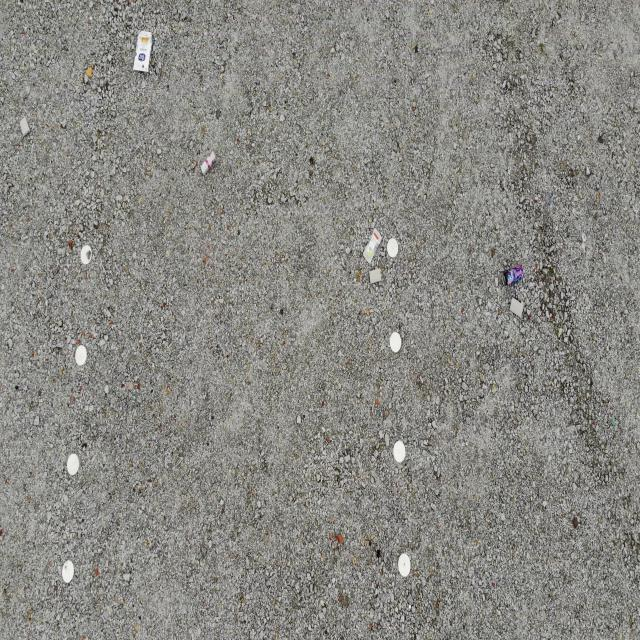rubbish: (132, 31, 153, 73), (361, 227, 382, 266), (199, 151, 217, 176), (501, 265, 523, 285), (508, 297, 525, 316), (18, 114, 30, 140), (368, 268, 383, 285)
